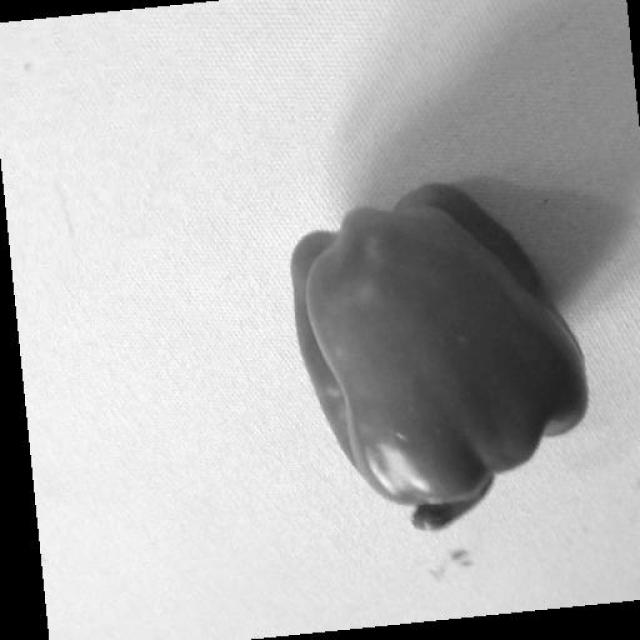Fresh_Capsicum: (248, 258, 613, 481)
